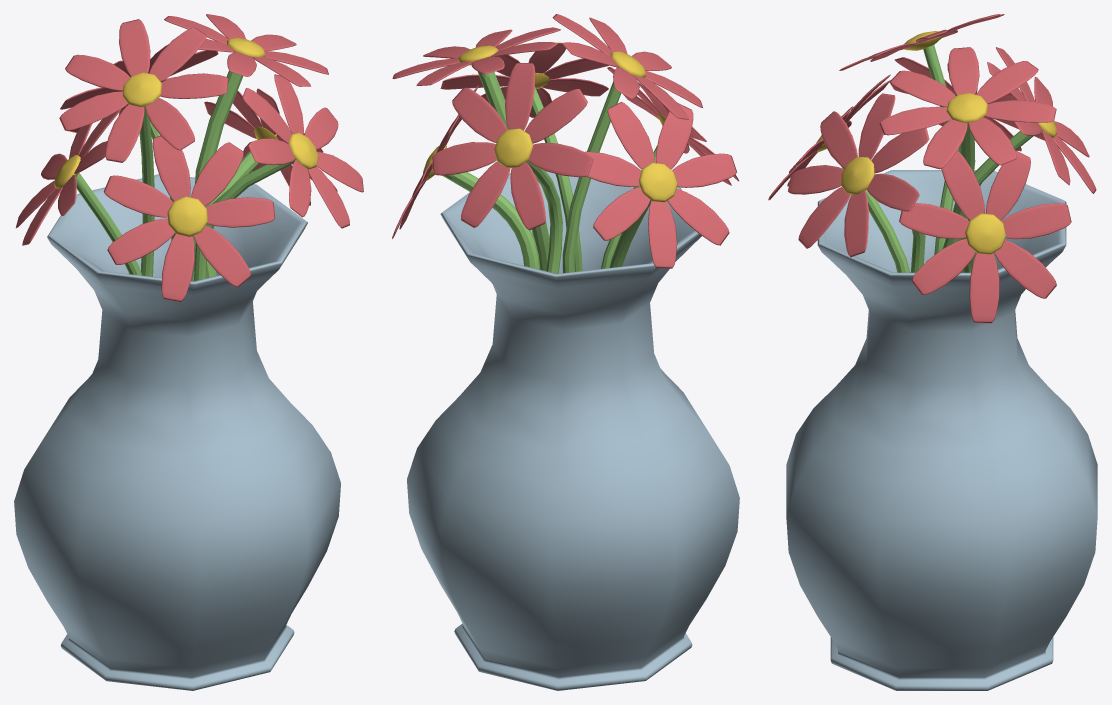
Rendered from Flowers.fbx.
3 views of the same model, side by side, from view 1: azimuth 30°, elevation 25°; view 2: azimuth 150°, elevation 25°; view 3: azimuth 270°, elevation 25° (orthographic). The views are drawn at different scales.
Parts seen in each view (by area): view 1: pSphere9; view 2: pSphere9; view 3: pSphere9.
Part boxes in pixels (left/top/right/bottom): pSphere9: left=14, top=14, right=363, bottom=690; pSphere9: left=392, top=14, right=739, bottom=690; pSphere9: left=768, top=14, right=1097, bottom=690.
Size of the model in its own units: 6.92 by 13.42 by 6.43.
